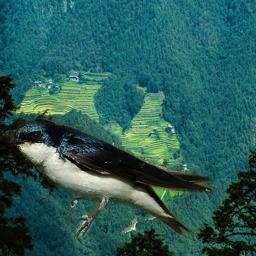Swallow: (8, 117, 222, 244)
